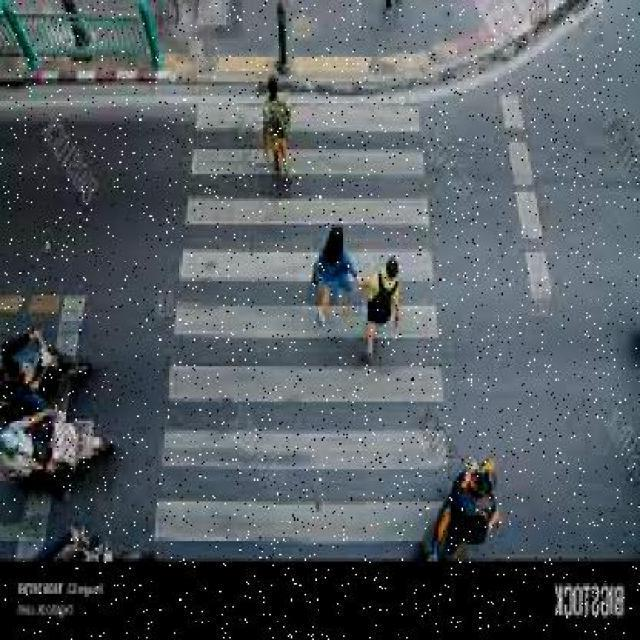Pedestrian crosswalk: (107, 76, 461, 567)
